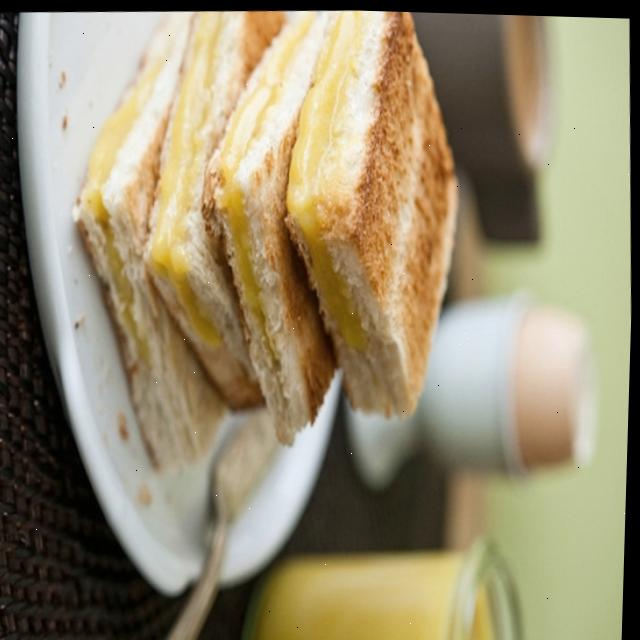面包点心: (25, 1, 511, 567)
